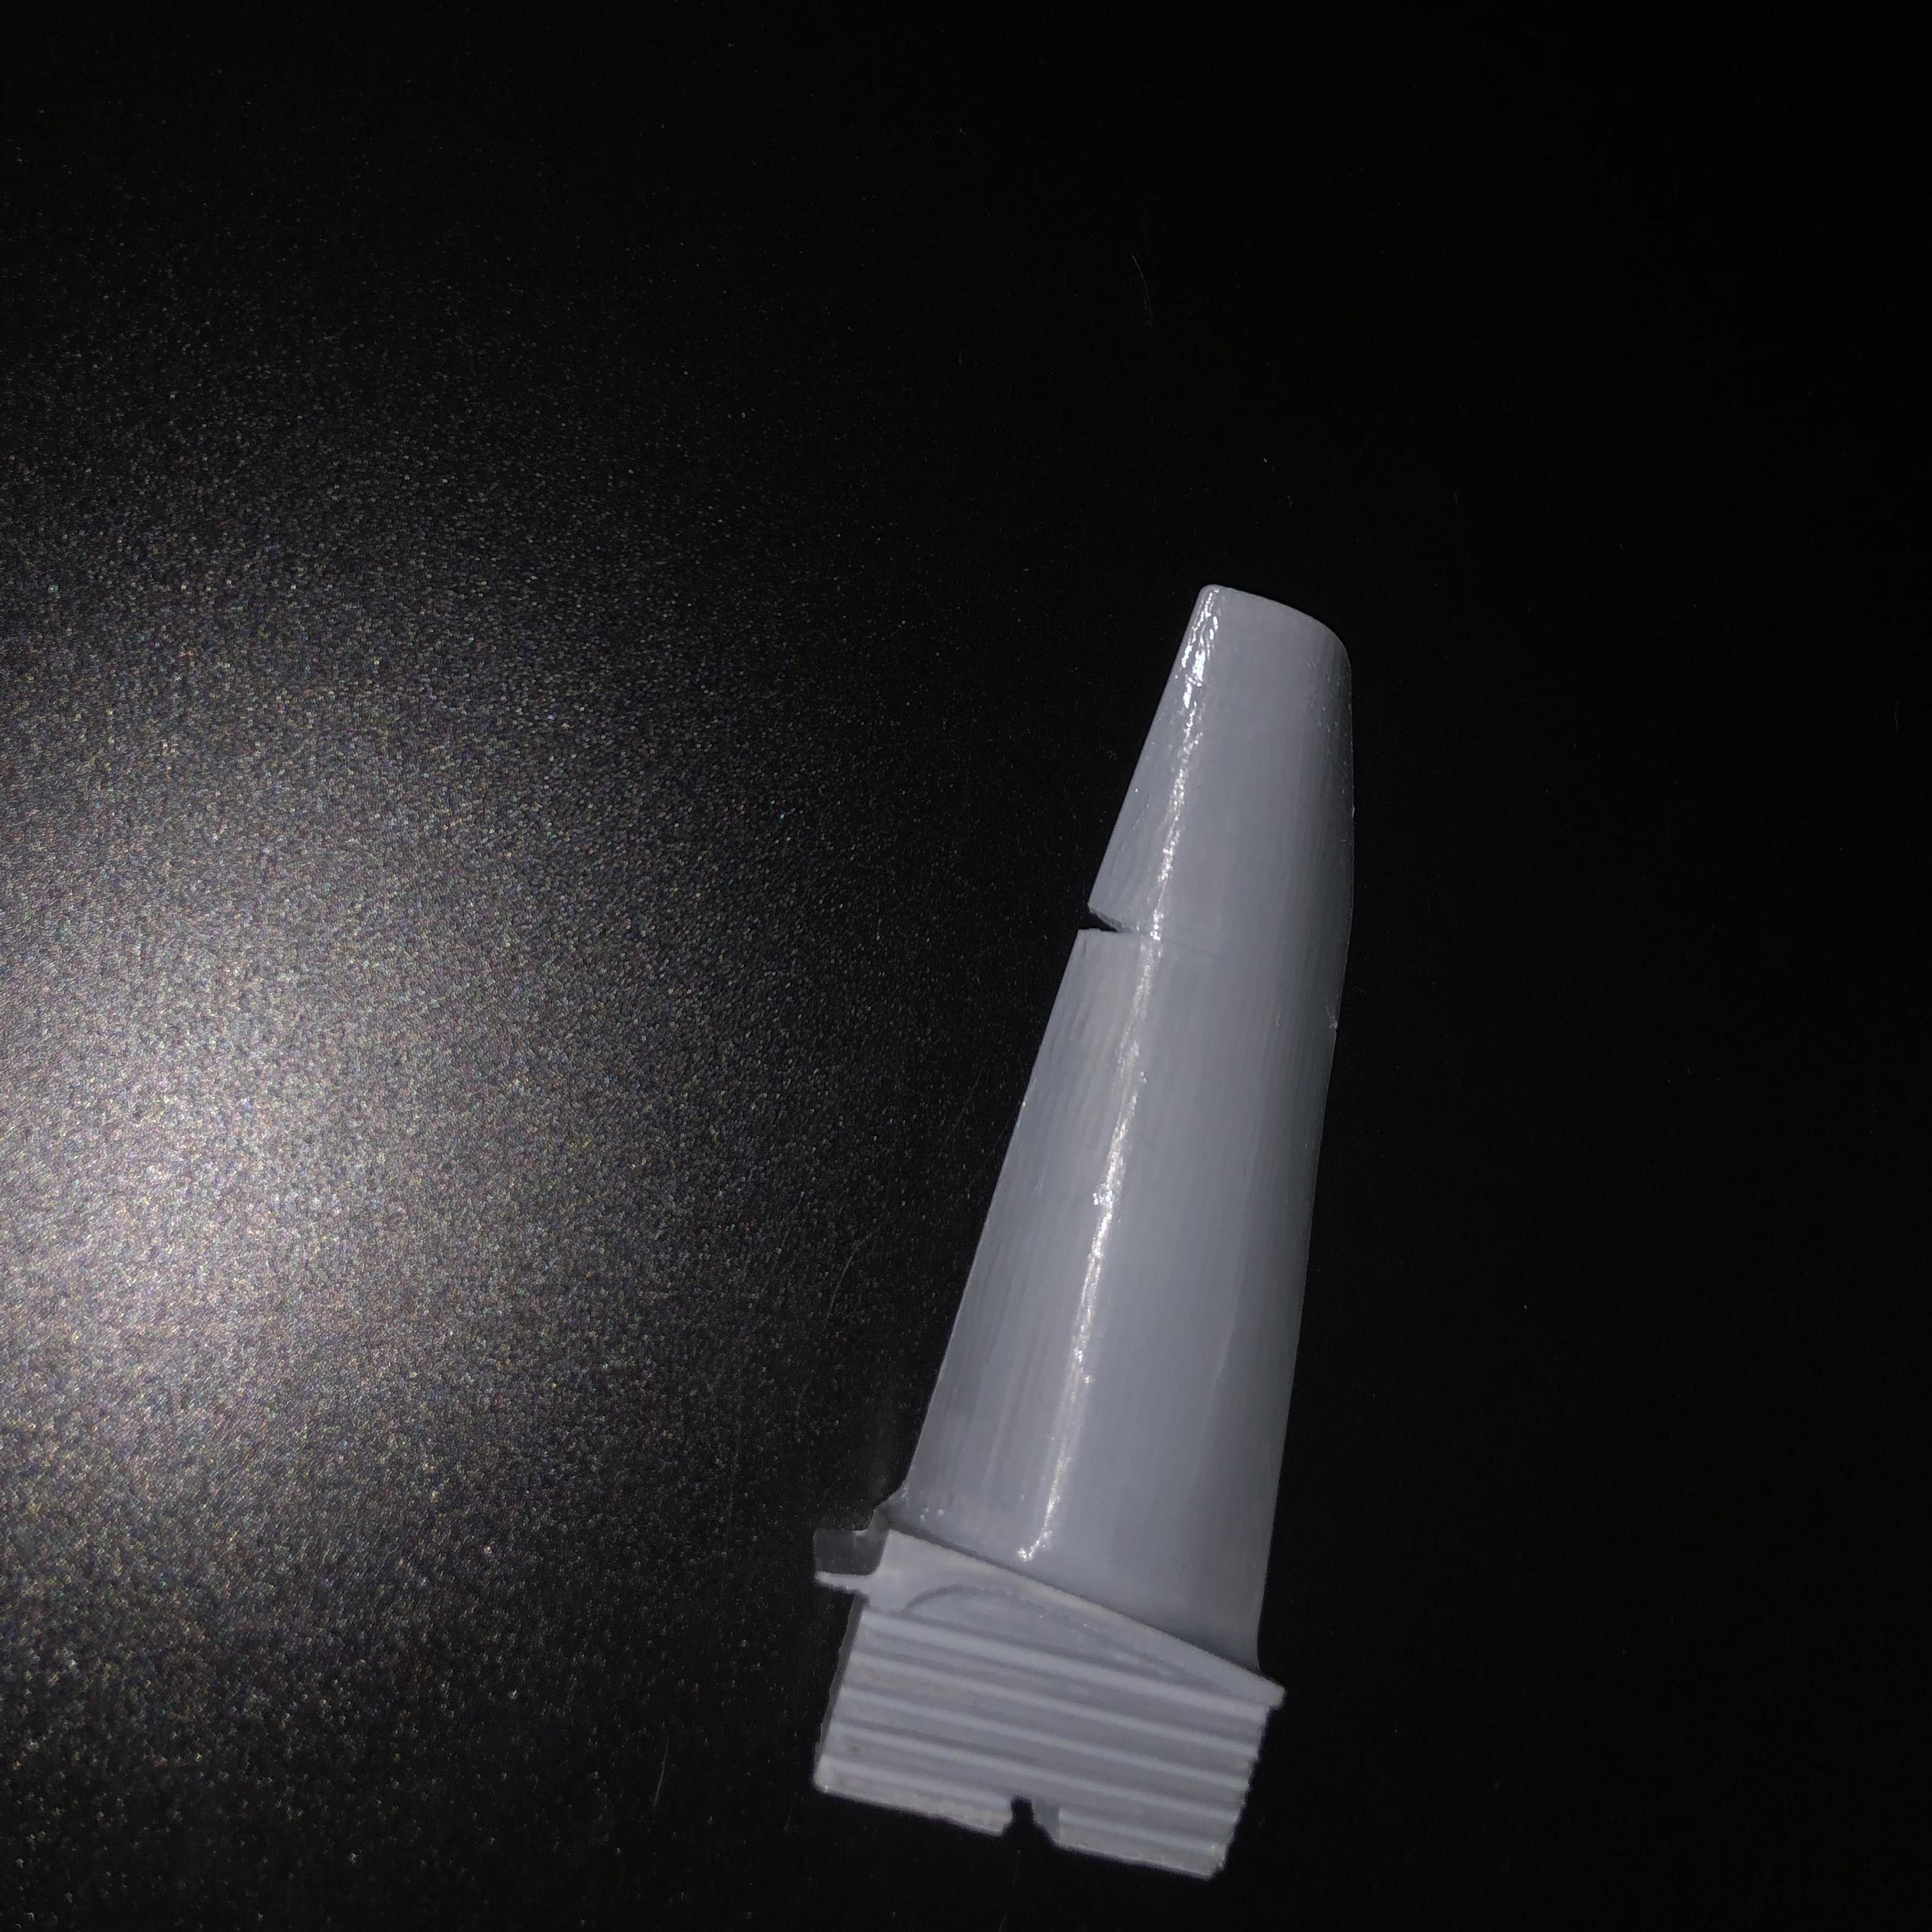groove: (1069, 893, 1155, 945)
